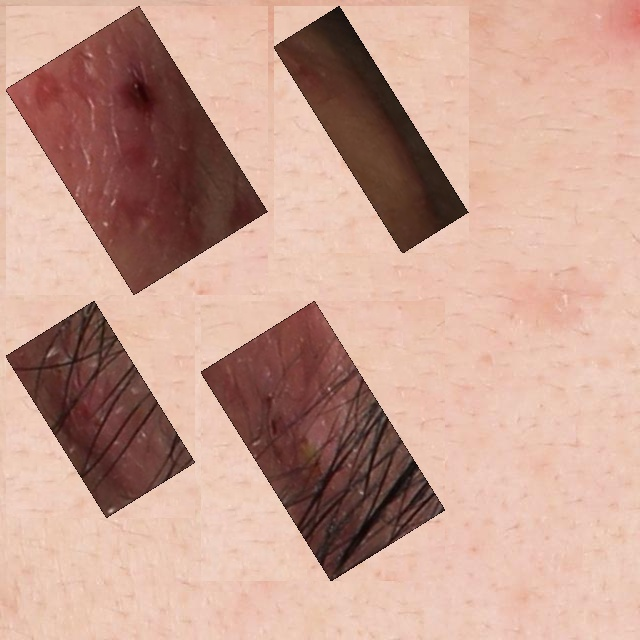nodule: (17, 17, 256, 283), (212, 312, 434, 570), (285, 17, 457, 242), (17, 312, 184, 506)
